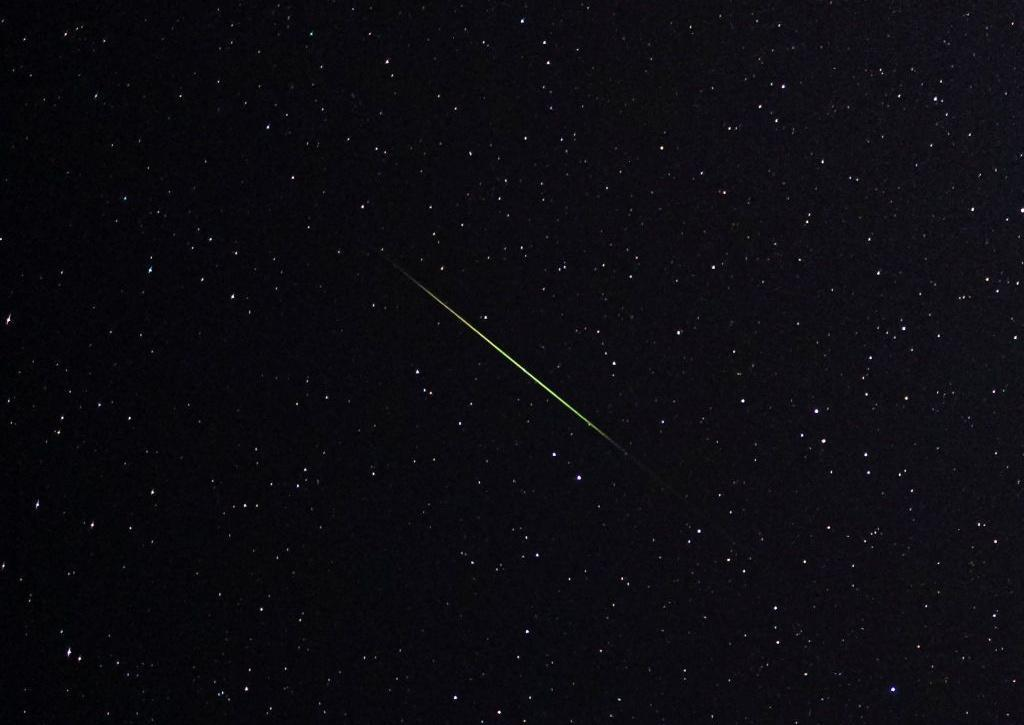meteorite: (370, 246, 666, 491)
